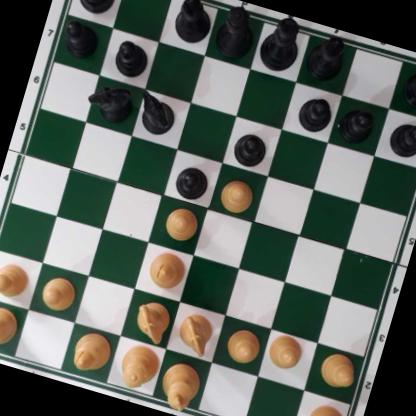black-bishop: (301, 27, 351, 86), (169, 0, 218, 45)
black-king: (256, 12, 308, 75)
black-knight: (86, 78, 136, 126), (132, 89, 180, 136)
black-pawn: (229, 126, 272, 170), (60, 17, 103, 60), (111, 35, 151, 80), (171, 161, 213, 203), (336, 102, 377, 145), (295, 94, 334, 135), (385, 116, 416, 162)
black-queen: (211, 1, 263, 61)
black-rook: (66, 0, 126, 18), (398, 57, 416, 114)
white-bishop: (68, 327, 114, 377), (145, 247, 189, 292)
white-king: (155, 355, 204, 414)
white-knight: (173, 309, 217, 356), (131, 299, 174, 345)
white-pawn: (316, 349, 360, 392), (38, 272, 80, 313), (216, 174, 258, 215), (264, 332, 305, 374), (223, 325, 265, 366), (162, 201, 202, 243), (0, 258, 34, 302)
white-queen: (115, 337, 163, 396)
white-rook: (0, 299, 22, 353), (301, 400, 357, 416)
